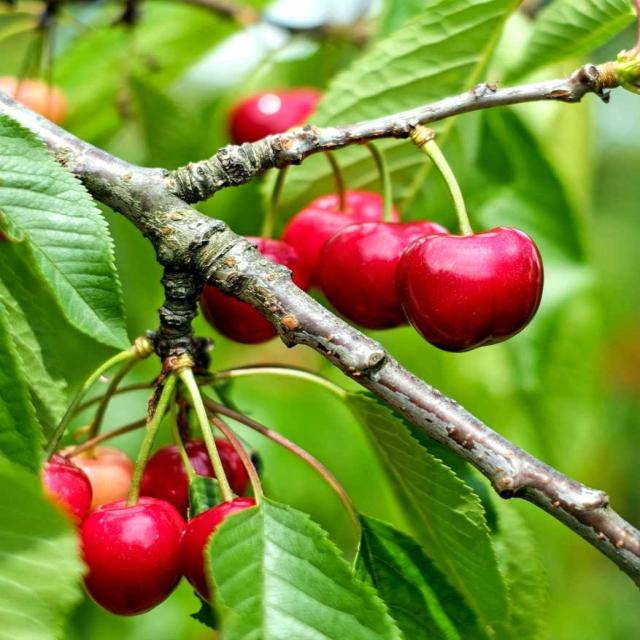Quả cherry: (391, 119, 554, 365), (76, 372, 188, 616), (78, 495, 186, 616), (199, 235, 312, 344), (139, 438, 259, 518), (179, 496, 257, 606), (225, 86, 321, 146), (39, 453, 92, 526)
